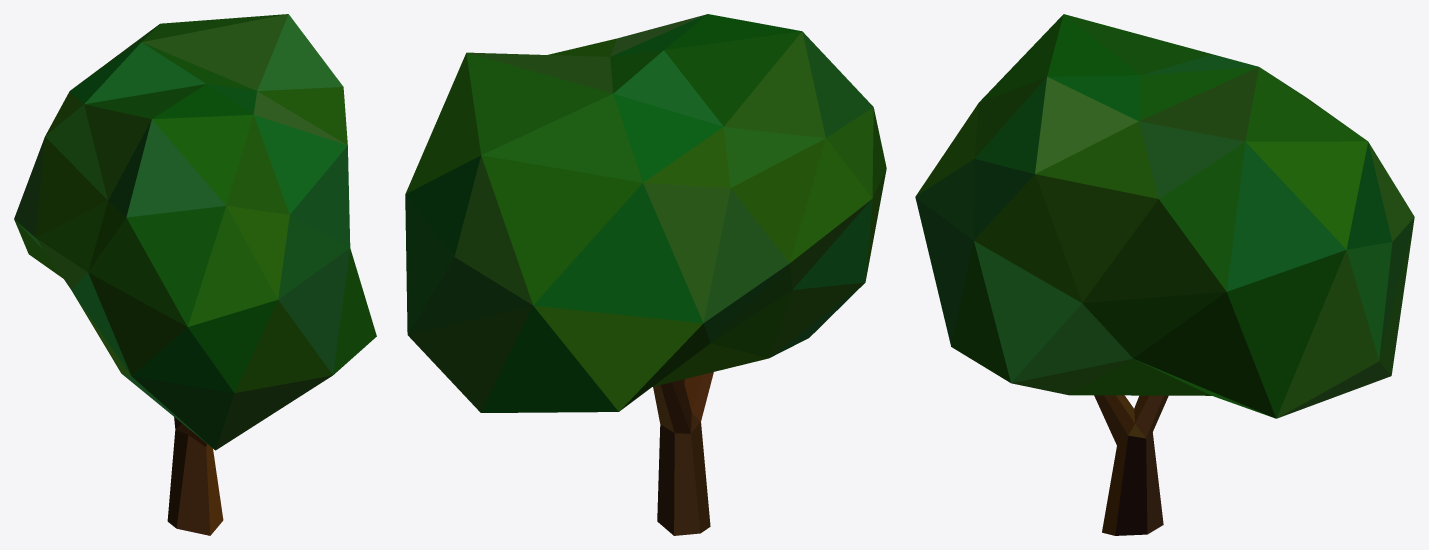
File: Bush01.glb
3 views of the same model, side by side, from view 1: azimuth 30°, elevation 25°; view 2: azimuth 150°, elevation 25°; view 3: azimuth 270°, elevation 25° (orthographic). The views are drawn at different scales.
Parts seen in each view (by area): view 1: Bush01; view 2: Bush01; view 3: Bush01.
Part boxes in pixels (x1=…): Bush01: x1=14, y1=14, x2=376, y2=535; Bush01: x1=405, y1=14, x2=886, y2=535; Bush01: x1=915, y1=14, x2=1414, y2=535.
Size of the model in its own units: 0.4911 by 0.6358 by 0.601.
